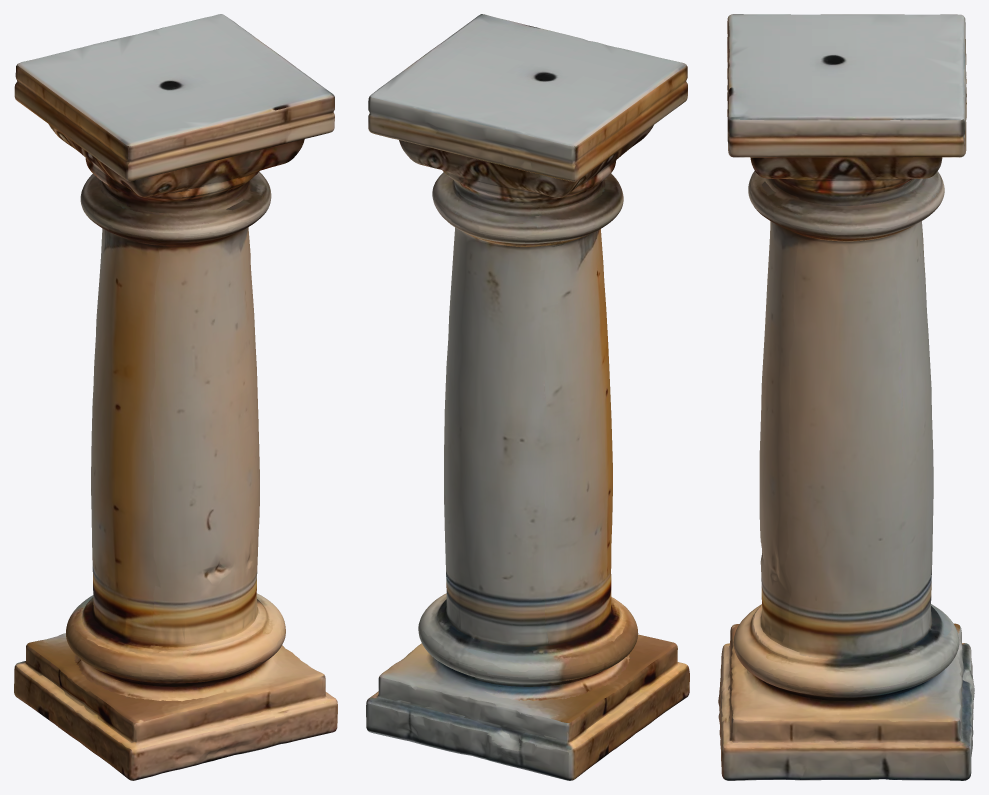
File: weathered-monolith-pillar-generated-2026-04-18t22-01-36-007z-texture-wrap-2026-04-18T23-14-30-195Z.medium.glb
The picture shows the model from 3 angles, left to right: view 1: azimuth 30°, elevation 25°; view 2: azimuth 150°, elevation 25°; view 3: azimuth 270°, elevation 25°; orthographic projection. The views are drawn at different scales.
Parts seen in each view (by area): view 1: temp_mesh.ply; view 2: temp_mesh.ply; view 3: temp_mesh.ply.
Part boxes in pixels (x1,y1,x2,y2): temp_mesh.ply: [14, 14, 337, 780]; temp_mesh.ply: [366, 14, 689, 780]; temp_mesh.ply: [718, 14, 974, 780].
Bounding box in the file's own units: 0.6844 × 1.97 × 0.6911.
1 material, 1 textured.
